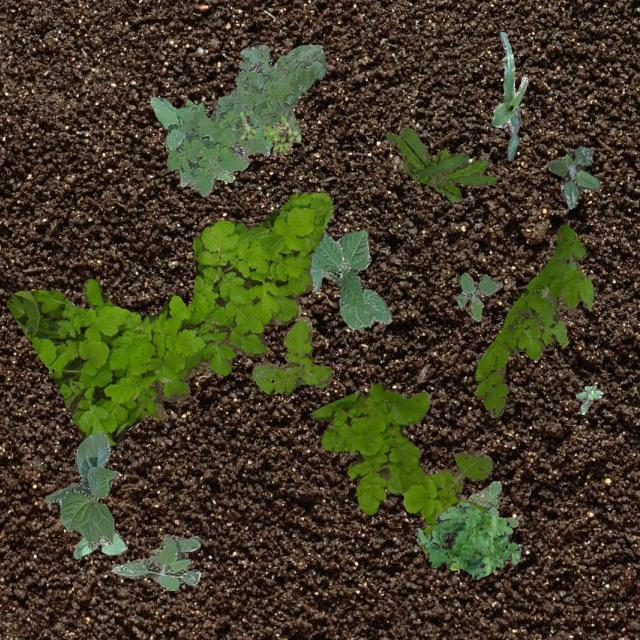crop: (44, 429, 118, 548), (308, 228, 392, 328), (491, 30, 526, 160), (72, 532, 126, 558)
weed: (6, 192, 332, 444), (310, 380, 492, 554), (166, 44, 326, 195), (473, 224, 592, 416), (384, 127, 496, 200), (414, 502, 520, 578), (150, 94, 232, 186), (250, 316, 332, 394), (110, 532, 200, 590), (546, 144, 598, 208), (238, 110, 300, 154), (467, 479, 518, 526), (456, 272, 502, 321), (574, 384, 602, 414)
